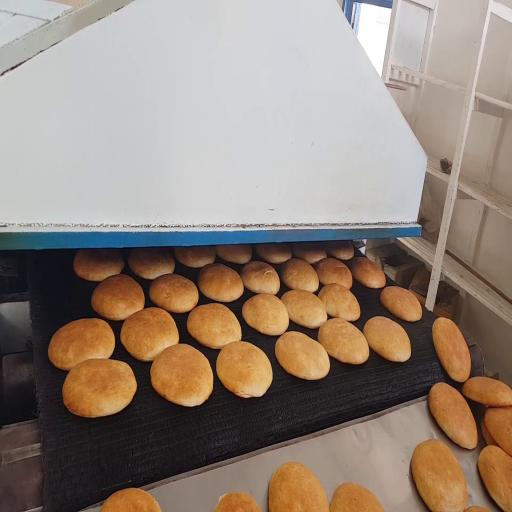bread: (63, 359, 137, 417), (411, 439, 467, 511), (151, 344, 213, 406), (48, 319, 115, 370), (429, 383, 477, 449), (216, 341, 272, 397), (121, 308, 178, 361), (269, 462, 329, 511), (275, 332, 329, 380), (432, 318, 470, 382), (187, 303, 241, 348), (92, 275, 145, 320), (318, 319, 369, 364), (478, 446, 511, 511), (364, 317, 411, 362), (242, 294, 289, 335), (150, 274, 198, 313), (281, 290, 327, 329), (198, 264, 243, 302), (74, 249, 124, 281), (318, 283, 360, 321), (128, 247, 175, 280), (330, 483, 384, 511), (462, 377, 511, 407), (380, 286, 422, 321), (100, 488, 161, 511), (241, 261, 280, 294), (485, 407, 511, 456), (281, 259, 318, 292), (315, 258, 352, 289), (350, 257, 385, 288), (214, 493, 261, 511), (174, 247, 215, 267), (255, 243, 291, 264), (292, 242, 326, 264), (216, 245, 251, 264), (324, 240, 354, 260), (481, 418, 497, 445), (465, 506, 489, 511)
